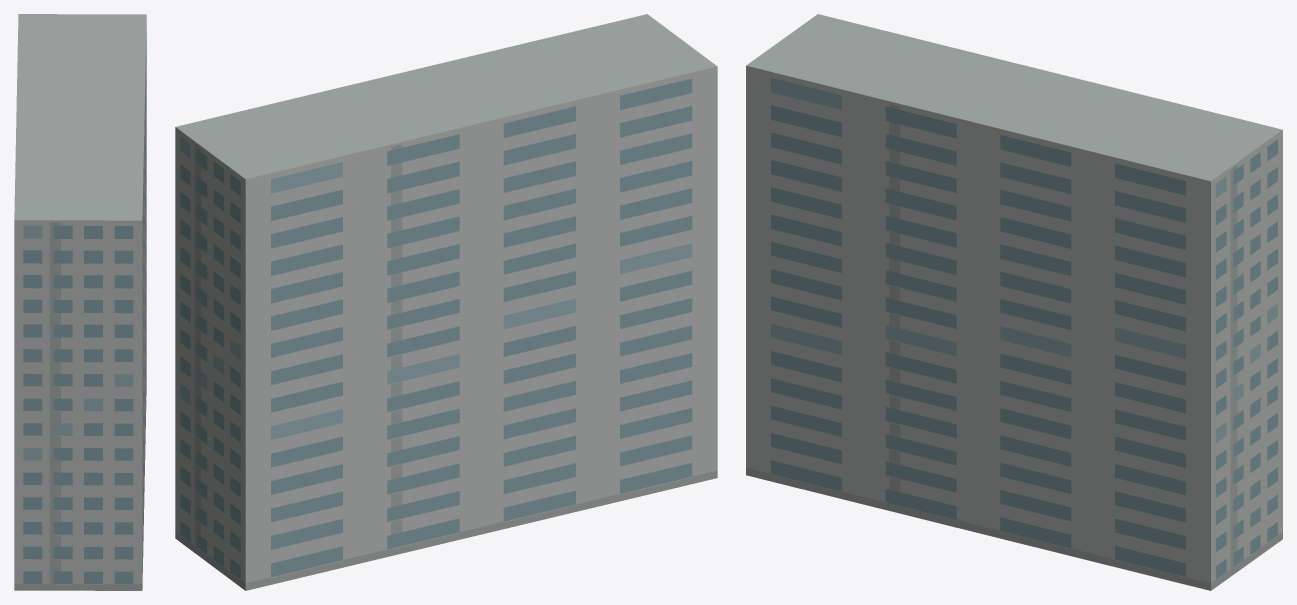
File: residential-f9444a15-ffc7-4673-8bc9-5bd7951e4d76.glb
3 views of the same model, side by side, from view 1: azimuth 30°, elevation 25°; view 2: azimuth 150°, elevation 25°; view 3: azimuth 270°, elevation 25° (orthographic). The views are drawn at different scales.
Parts seen in each view (by area): view 1: residential-f9444a15-ffc7-4673-8bc9-5bd7951e4d76.tmp; view 2: residential-f9444a15-ffc7-4673-8bc9-5bd7951e4d76.tmp; view 3: residential-f9444a15-ffc7-4673-8bc9-5bd7951e4d76.tmp.
Part boxes in pixels (box(x1,y1,x2,y2)): residential-f9444a15-ffc7-4673-8bc9-5bd7951e4d76.tmp: box(14, 14, 146, 590); residential-f9444a15-ffc7-4673-8bc9-5bd7951e4d76.tmp: box(175, 14, 717, 590); residential-f9444a15-ffc7-4673-8bc9-5bd7951e4d76.tmp: box(746, 14, 1282, 590).
Bounding box in the file's own units: 37.68 × 43 × 51.08.
